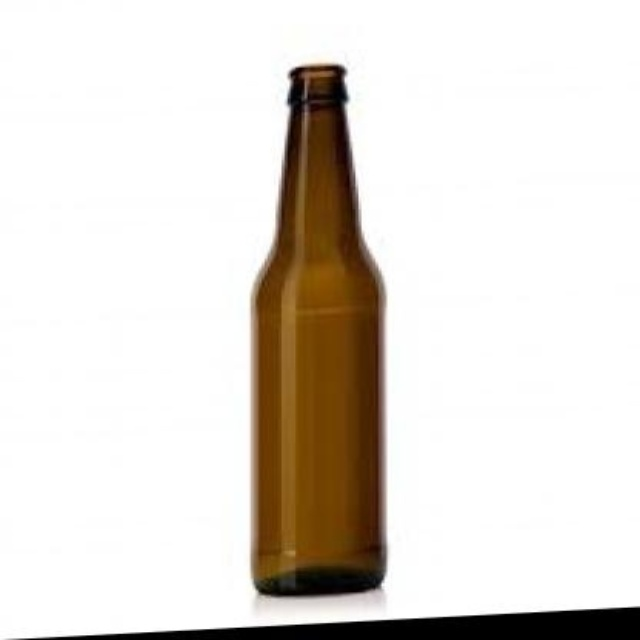trash: (252, 65, 385, 594)
